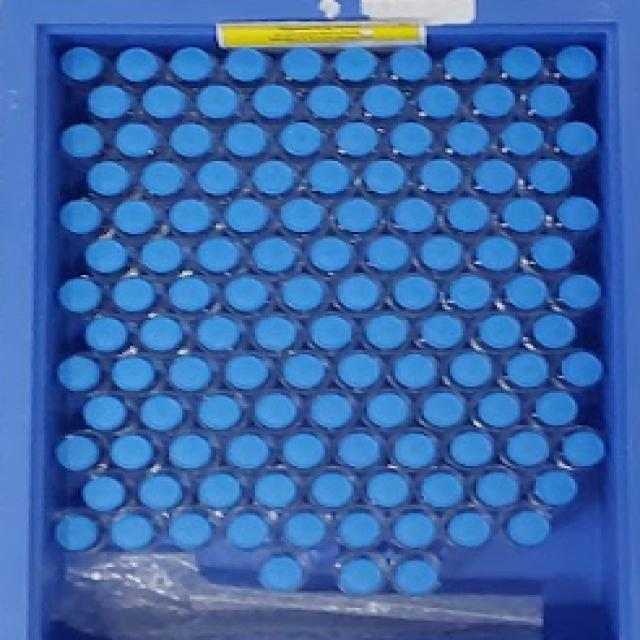vial: (338, 556, 385, 595), (392, 558, 439, 595), (392, 511, 436, 549), (338, 511, 382, 549), (421, 391, 466, 428), (55, 514, 100, 551), (338, 352, 382, 389), (450, 431, 494, 468), (338, 432, 382, 469), (447, 511, 491, 548), (168, 512, 212, 549), (530, 235, 575, 271), (55, 435, 100, 471), (138, 474, 183, 510), (506, 510, 551, 546), (259, 555, 304, 591), (86, 161, 132, 196), (251, 160, 297, 195), (560, 351, 603, 388), (254, 392, 297, 429), (366, 471, 409, 508), (227, 512, 270, 549), (389, 122, 433, 158), (224, 122, 268, 158), (59, 199, 103, 235), (197, 238, 241, 274), (309, 236, 353, 272), (394, 275, 438, 311), (336, 275, 380, 311), (224, 276, 268, 312), (168, 276, 212, 312), (168, 355, 212, 391), (83, 395, 127, 431), (141, 395, 185, 431), (366, 392, 410, 428), (477, 392, 521, 428), (506, 430, 550, 466), (475, 471, 519, 507), (533, 470, 577, 506), (115, 48, 161, 82), (168, 199, 214, 233), (562, 430, 604, 467), (312, 471, 354, 508), (421, 471, 463, 508), (61, 46, 104, 82), (419, 235, 462, 271), (58, 278, 101, 314), (58, 355, 101, 391), (283, 432, 326, 468), (198, 472, 241, 508), (254, 472, 297, 508), (111, 514, 154, 550), (528, 84, 572, 119), (500, 121, 544, 156), (141, 161, 185, 196), (197, 161, 241, 196), (307, 160, 351, 195), (527, 159, 571, 194), (556, 196, 600, 231), (85, 239, 129, 274), (366, 236, 410, 271), (448, 275, 492, 310), (139, 316, 183, 351), (197, 316, 241, 351), (309, 315, 353, 350), (365, 315, 409, 350), (533, 314, 577, 349), (394, 354, 438, 389), (282, 354, 326, 389), (112, 356, 156, 391), (198, 395, 242, 430), (226, 434, 270, 469), (168, 434, 212, 469), (82, 476, 126, 511), (170, 48, 215, 82), (224, 199, 270, 232), (115, 122, 157, 158), (141, 238, 183, 274), (282, 275, 324, 311), (506, 352, 548, 388), (450, 352, 492, 388), (394, 432, 436, 468), (389, 46, 432, 81), (363, 160, 406, 195), (419, 159, 462, 194), (114, 200, 157, 235), (475, 236, 518, 271), (254, 316, 297, 351), (478, 314, 521, 349), (310, 394, 353, 429), (535, 391, 578, 426), (111, 434, 154, 469), (283, 512, 326, 547), (224, 48, 268, 82), (280, 48, 324, 82), (88, 85, 132, 119), (142, 85, 186, 119), (306, 85, 350, 119), (362, 84, 406, 118), (279, 122, 323, 156), (170, 124, 214, 158), (501, 198, 545, 232), (392, 198, 436, 232), (335, 198, 379, 232), (280, 198, 324, 232), (253, 238, 297, 272), (504, 275, 548, 309), (112, 278, 156, 312), (85, 318, 129, 352), (226, 355, 270, 389), (253, 84, 295, 119), (556, 121, 598, 156), (447, 121, 489, 156), (474, 159, 516, 194), (559, 274, 601, 309), (421, 314, 463, 349), (472, 84, 515, 118), (336, 122, 379, 156), (61, 124, 104, 158), (556, 45, 597, 80), (335, 48, 377, 82), (197, 85, 239, 119), (418, 85, 460, 119), (447, 198, 489, 232), (501, 46, 542, 80), (444, 48, 486, 81)
